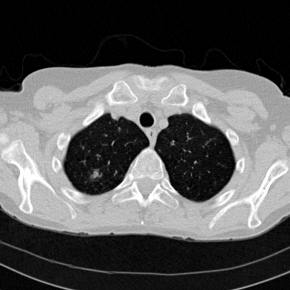nodule: (90, 170, 98, 178)
